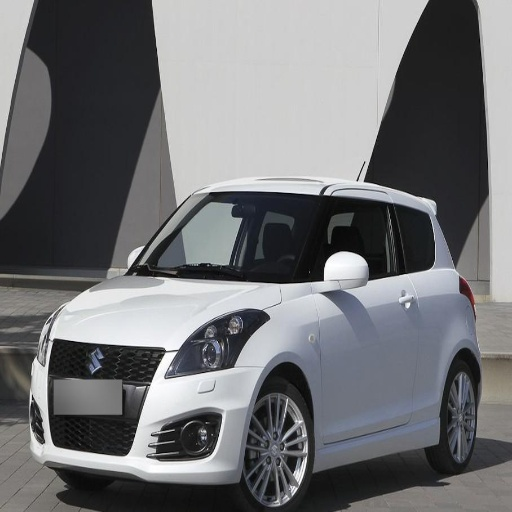back_glass: (35, 6, 142, 129), (393, 35, 475, 146)
front_bumper: (31, 340, 262, 481)
front_glass: (127, 192, 329, 280)
front_left_door: (315, 196, 417, 442)
front_left_light: (163, 310, 267, 378)
front_right_door: (326, 21, 376, 82)
